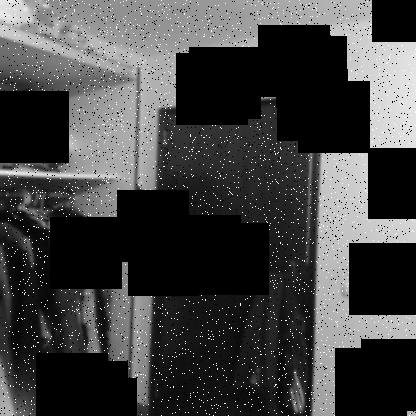Porte: (147, 93, 324, 415)
